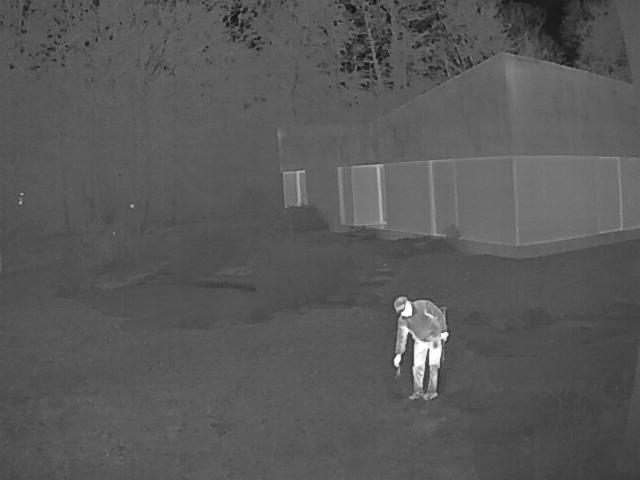person: (394, 294, 449, 403)
